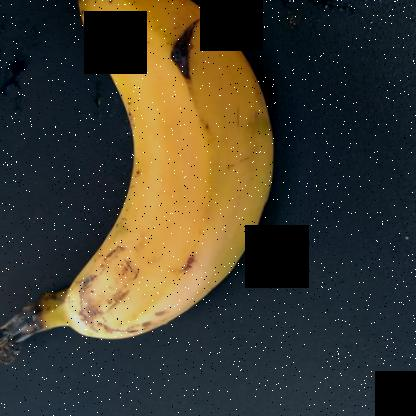ripe: (53, 0, 315, 351)
